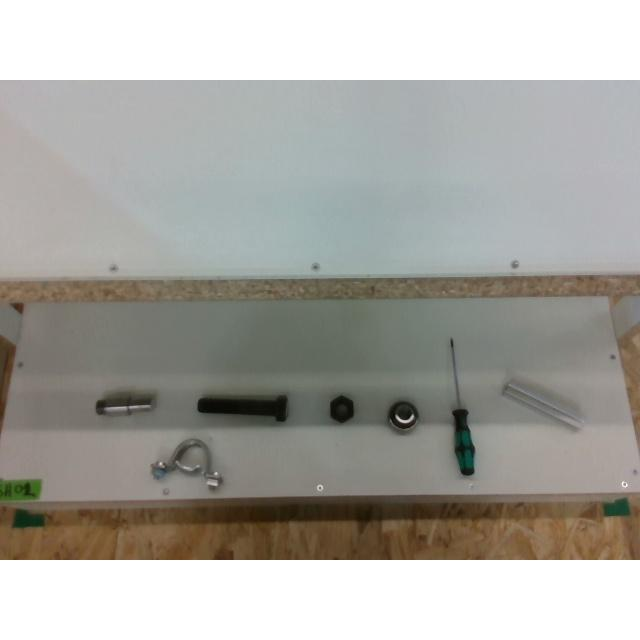Axis2: (96, 391, 156, 415)
Bearing2: (387, 401, 418, 432)
F20_20_G: (502, 379, 586, 428)
Housing: (150, 438, 222, 488)
M20: (331, 394, 354, 422)
M20_100: (197, 395, 287, 421)
Screwdriver: (450, 338, 474, 474)
